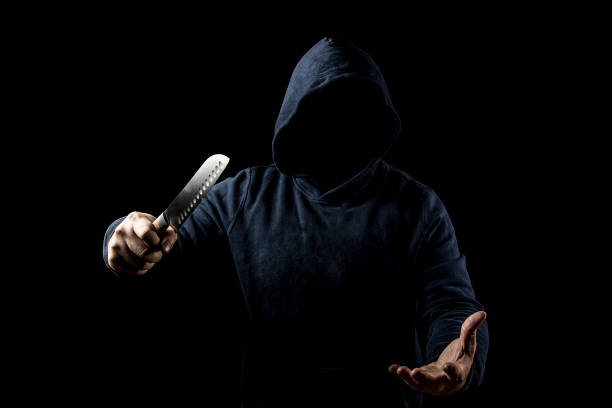knife: (147, 148, 235, 238)
